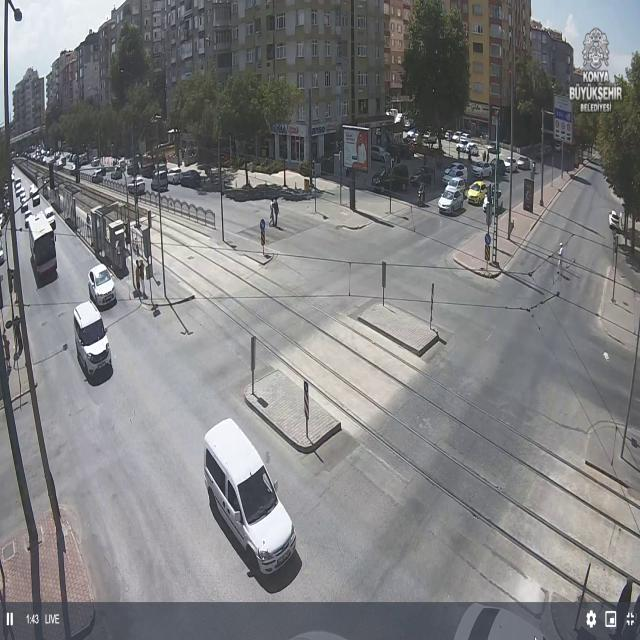Car: (202, 417, 297, 574), (449, 603, 552, 640), (73, 302, 112, 380), (88, 263, 118, 308), (438, 183, 466, 214), (442, 163, 468, 185), (466, 181, 488, 205), (178, 170, 204, 188), (471, 161, 493, 179), (150, 171, 168, 192), (490, 158, 508, 176), (128, 178, 146, 195), (512, 156, 532, 171), (456, 140, 477, 154), (608, 210, 622, 230), (166, 169, 183, 185), (194, 164, 212, 179), (140, 162, 156, 178), (68, 156, 86, 170), (503, 157, 519, 172), (29, 185, 40, 206), (402, 130, 419, 143), (91, 169, 106, 183), (44, 207, 56, 224), (486, 142, 502, 154), (422, 134, 438, 146), (23, 210, 34, 227), (127, 162, 141, 175), (20, 196, 30, 213), (63, 160, 77, 172), (450, 132, 466, 142), (458, 133, 471, 145), (110, 168, 123, 180), (386, 108, 399, 120), (155, 162, 167, 175), (28, 151, 41, 161), (118, 158, 128, 170), (44, 155, 56, 165), (14, 178, 22, 192), (403, 119, 414, 129), (56, 158, 66, 169), (394, 113, 404, 124), (0, 213, 6, 230), (90, 157, 100, 167), (444, 130, 454, 140), (0, 248, 5, 268), (26, 184, 34, 196), (3, 183, 10, 196), (422, 130, 432, 139), (4, 199, 11, 211), (54, 154, 62, 164), (11, 169, 16, 181), (10, 151, 18, 158)
Truck: (29, 214, 56, 275)
